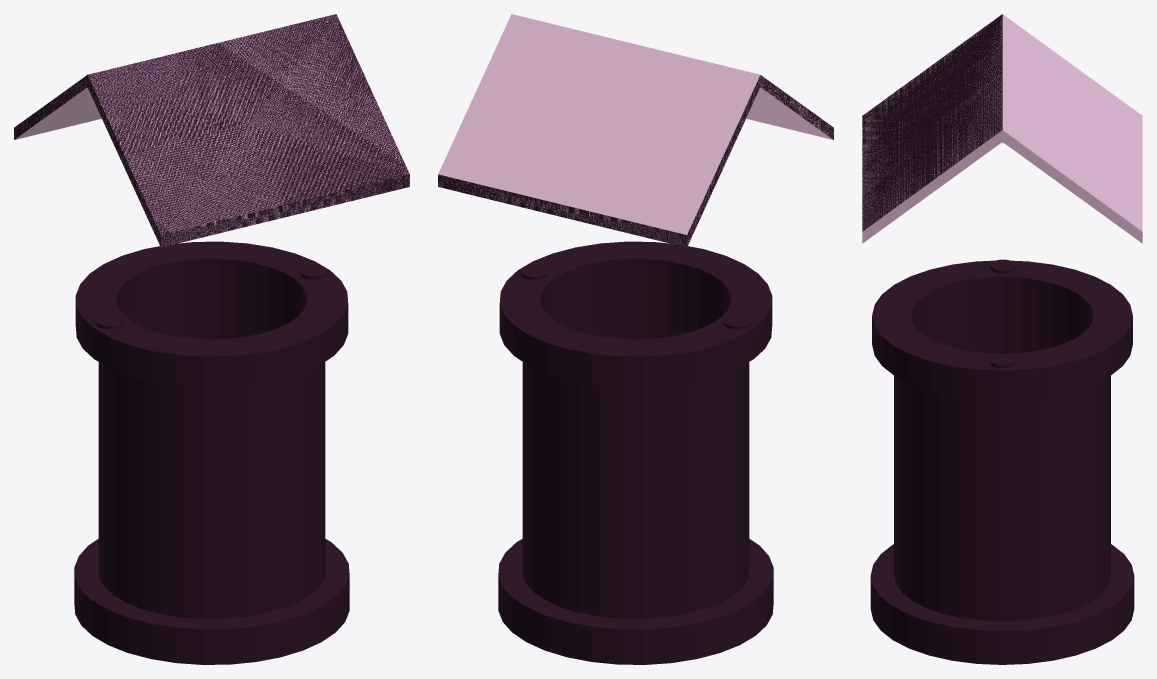
Rendered from Mo_ForestVilageWell01fbx.fbx.
3 views of the same model, side by side, from view 1: azimuth 30°, elevation 25°; view 2: azimuth 150°, elevation 25°; view 3: azimuth 270°, elevation 25° (orthographic). The views are drawn at different scales.
Parts seen in each view (by area): view 1: Cylinder; view 2: Cylinder; view 3: Cylinder.
Boxes of the visible parts, x1=… form: Cylinder: x1=14, y1=14, x2=409, y2=664; Cylinder: x1=438, y1=14, x2=833, y2=664; Cylinder: x1=862, y1=14, x2=1142, y2=664.
Bounding box in the file's own units: 253 × 547 × 259.
